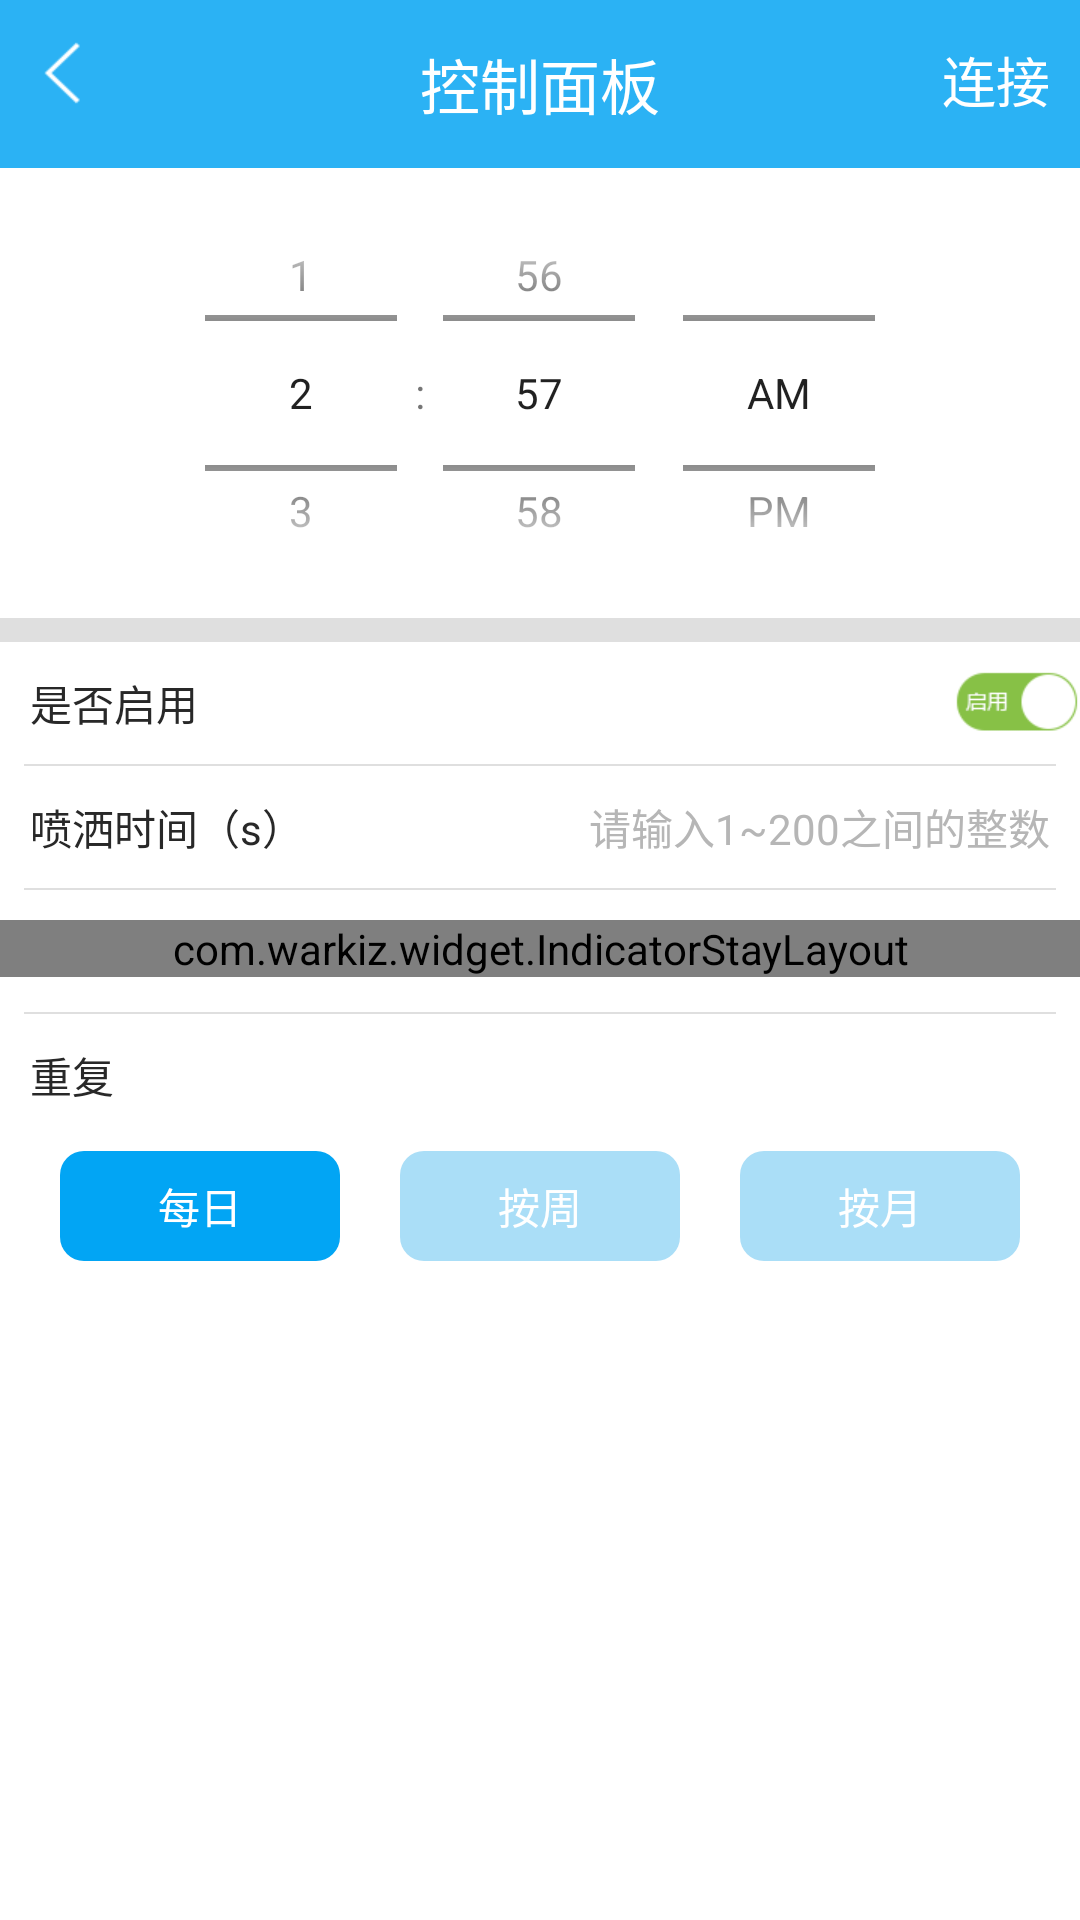

Locate icon controls on the screen. Image size 1080px×1920px, boxes as (x1, y1, x2, y2).
checkbox oc: (956, 672, 1078, 731)
return: (45, 43, 80, 103)
